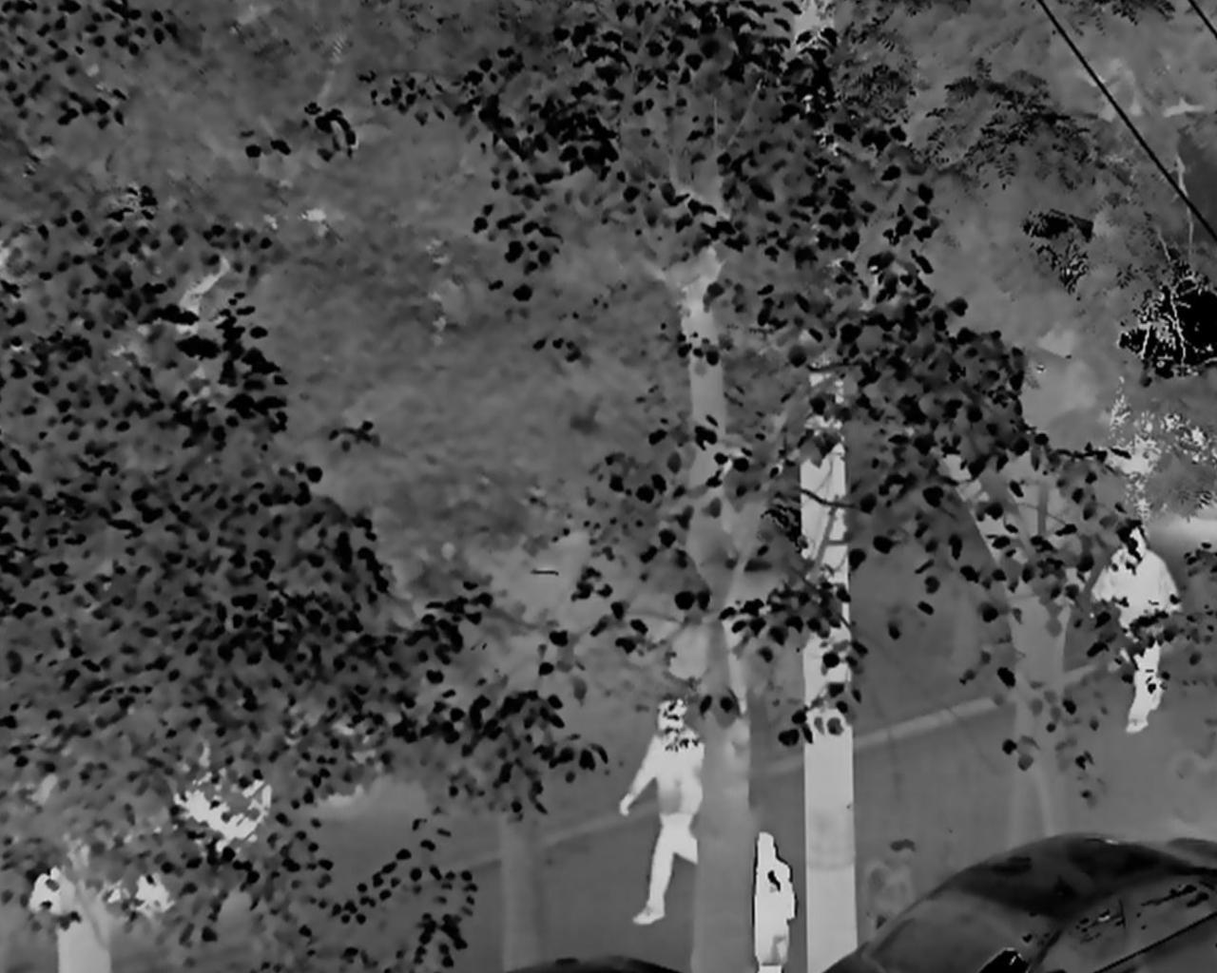person: (620, 695, 705, 932), (1098, 520, 1176, 737)
